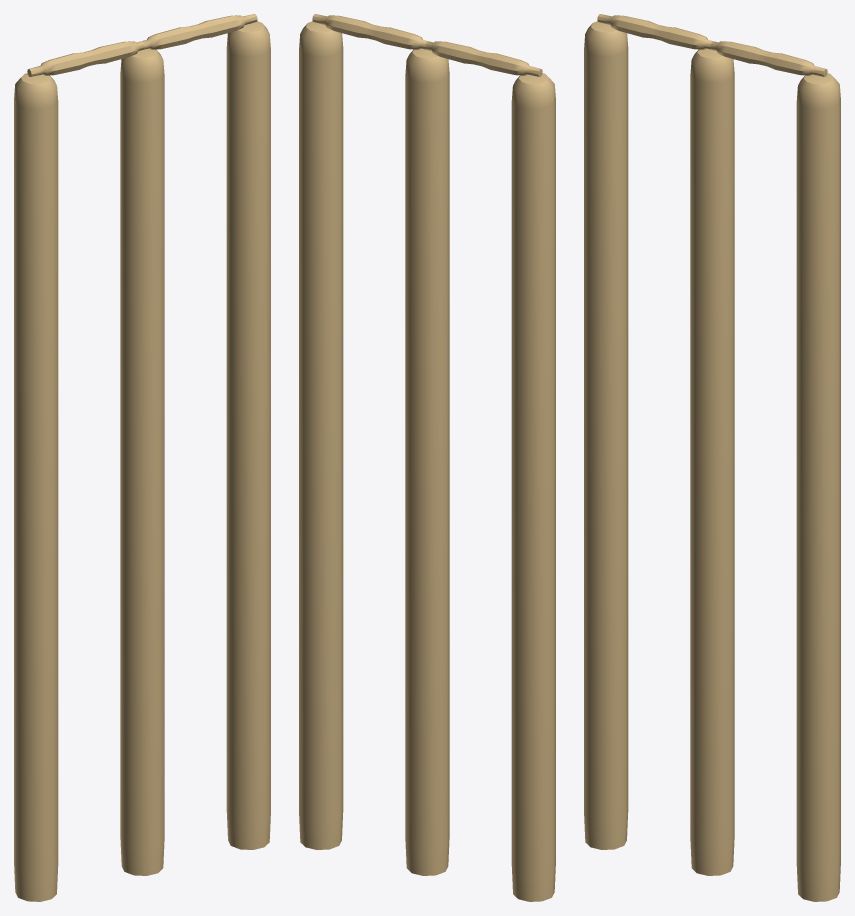
File: stumps.glb
3 views of the same model, side by side, from view 1: azimuth 30°, elevation 25°; view 2: azimuth 150°, elevation 25°; view 3: azimuth 330°, elevation 25° (orthographic).
Visible parts, largest first — view 1: stumps; view 2: stumps; view 3: stumps.
Boxes of the visible parts, box(x1,y1,x2,y2) form: stumps: box(14, 14, 270, 901); stumps: box(299, 14, 555, 901); stumps: box(584, 14, 840, 901).
Size of the model in its own units: 0.2286 by 0.7219 by 0.0333.
